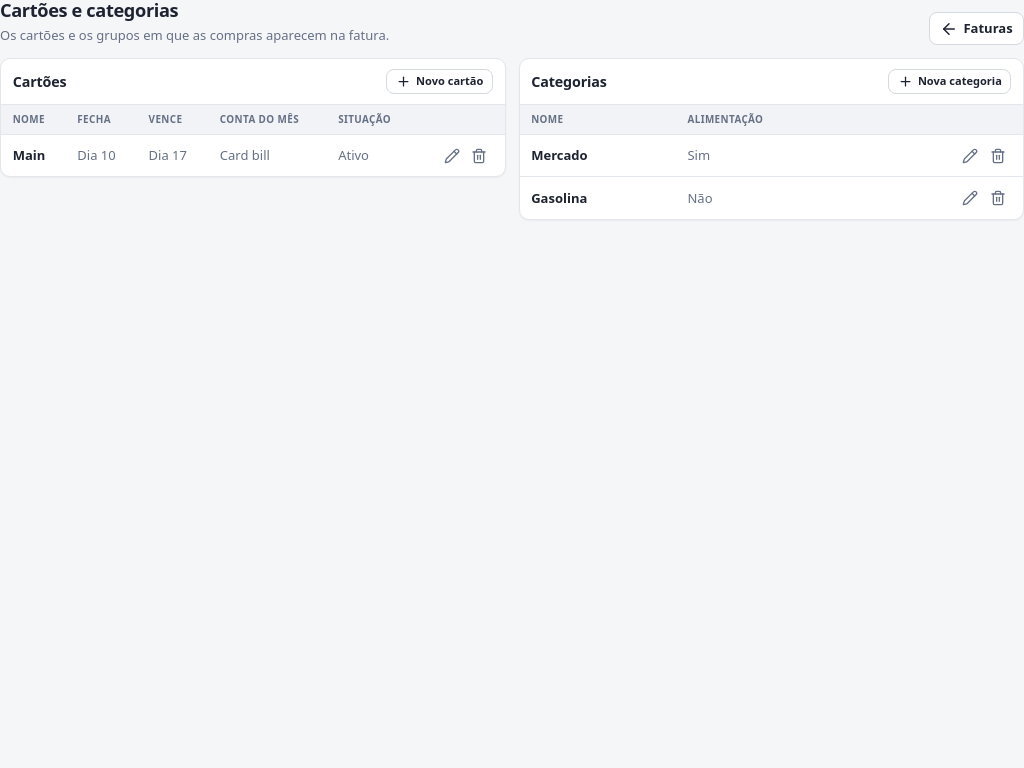
it: CardSettingsPage › creates a card, offering only the active bills
Expected: the element "Categorias" is shown, [518,58,1023,220]
Click the button "Novo cartão" at (440, 82), box [386,69,493,94]
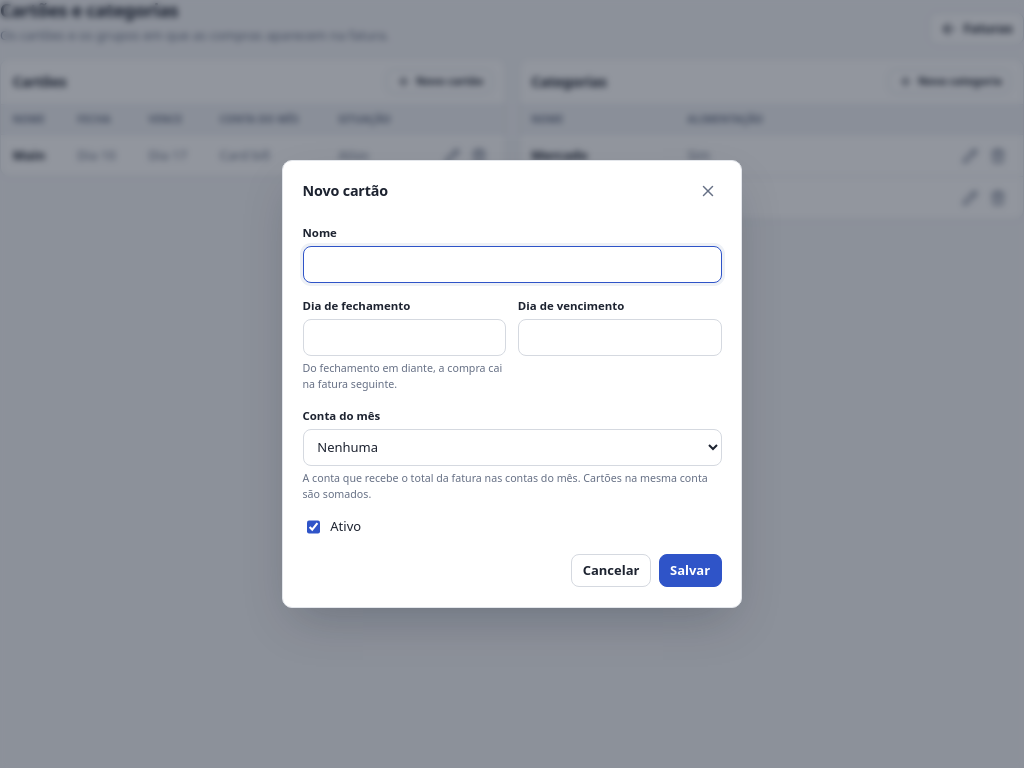
Type "Second" into the field labelled "Nome" at (512, 264), box [302,246,722,283]
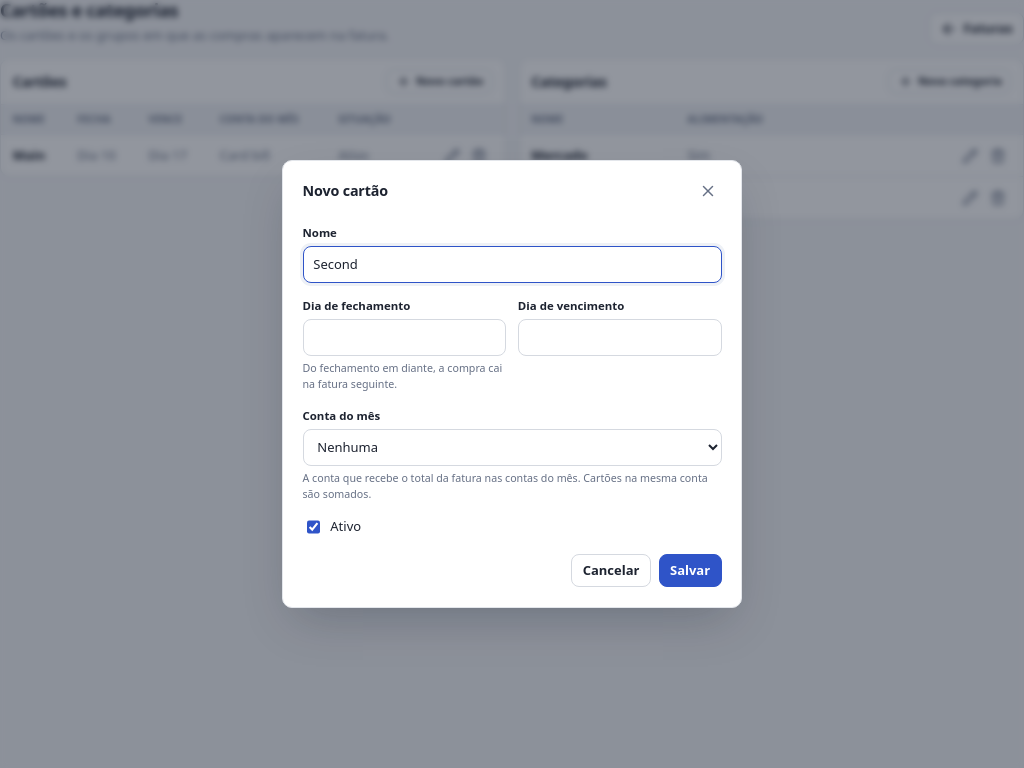
Type "6" into the number field labelled "Dia de fechamento" at (404, 338), box [302,319,506,356]
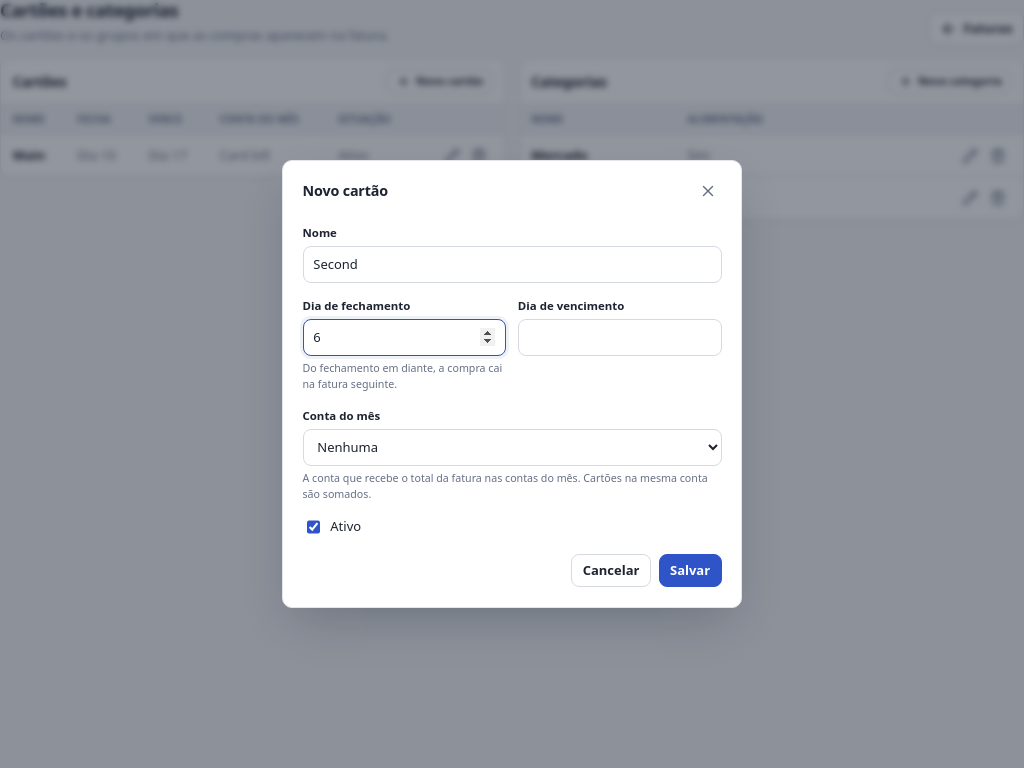
Type "14" into the number field labelled "Dia de vencimento" at (620, 338), box [518,319,722,356]
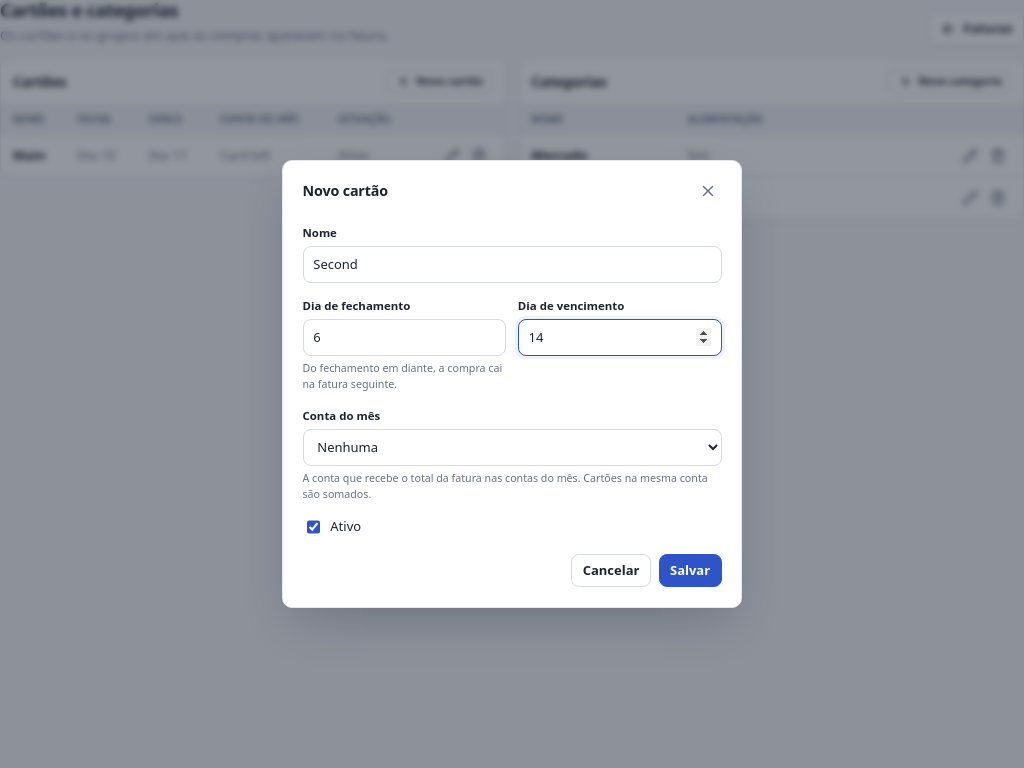
Select "Card bill (Casa)" in the dropdown labelled "Conta do mês" at (512, 447), box [302,429,722,466]
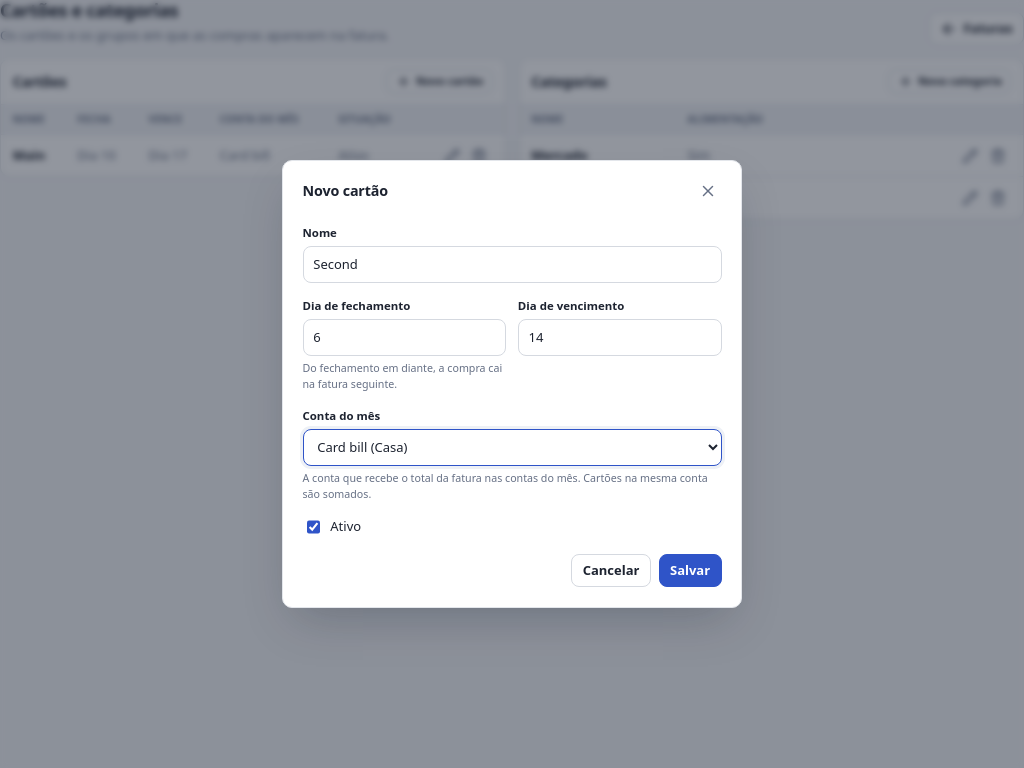
Click the button "Salvar" at (690, 571), box [659,554,722,587]
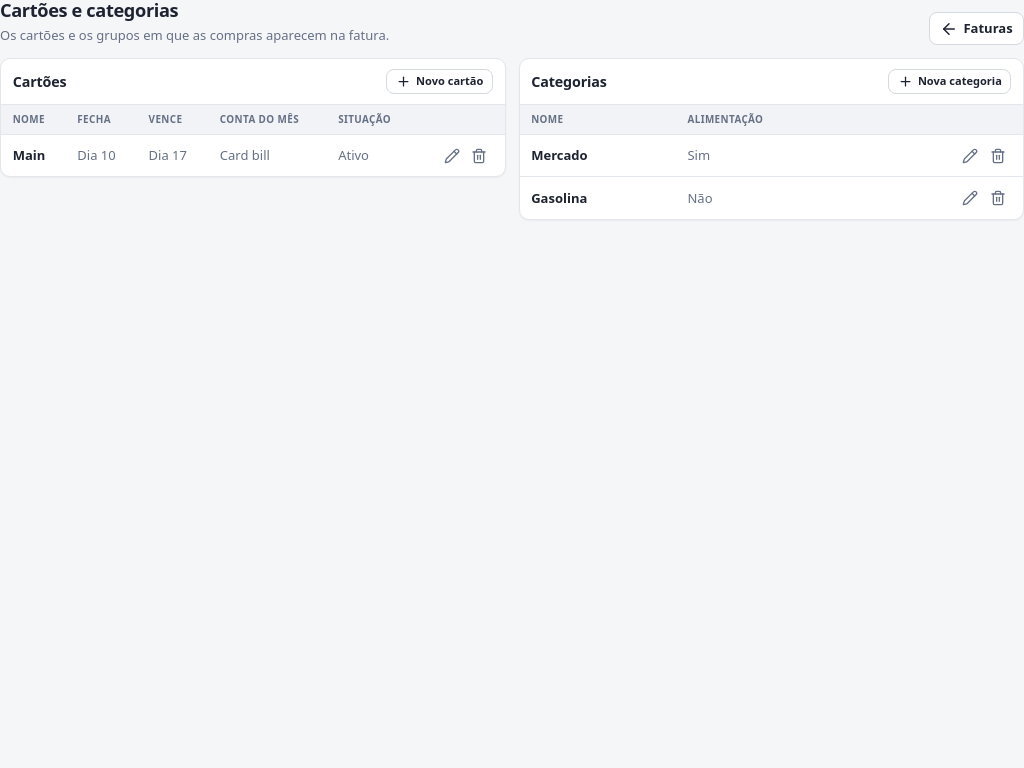
Expected: the dialog is gone
